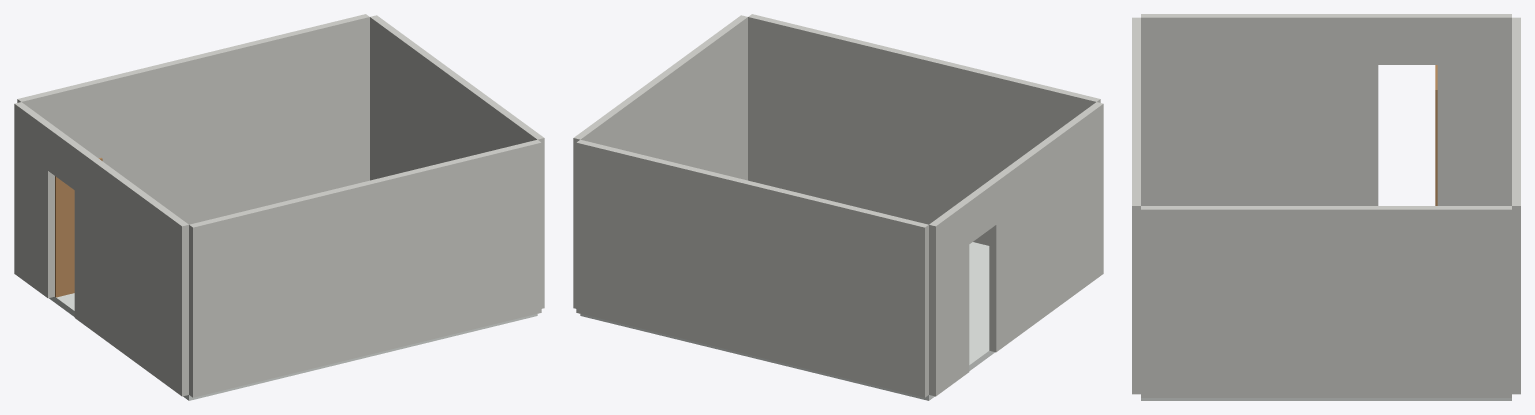
3 renders of one model, left to right at view 1: azimuth 30°, elevation 25°; view 2: azimuth 150°, elevation 25°; view 3: azimuth 270°, elevation 25°, orthographic. The views are drawn at different scales.
Parts seen in each view (by area): view 1: room:north:full, room:south:full, room:west:high, room:east:full, room:west:low, door:leaf, room:west:lintel, room:floor; view 2: room:south:full, room:north:full, room:west:high, room:east:full, room:west:low, room:floor, room:west:lintel; view 3: room:east:full, room:west:high, room:west:low, room:south:full, room:north:full, room:west:lintel, room:floor, door:leaf.
Boxes of the visible parts, box(x1,y1,x2,y2) form: room:north:full: box(189, 139, 541, 397); room:south:full: box(17, 14, 369, 224); room:west:high: box(74, 146, 188, 396); room:east:full: box(370, 15, 544, 308); room:west:low: box(14, 102, 54, 298); door:leaf: box(55, 157, 102, 297); room:west:lintel: box(48, 126, 81, 189); room:floor: box(49, 293, 537, 400); room:south:full: box(576, 139, 928, 397); room:north:full: box(748, 14, 1100, 245); room:west:high: box(989, 102, 1103, 352); room:east:full: box(573, 15, 747, 308); room:west:low: box(929, 200, 969, 396); room:floor: box(580, 242, 994, 400); room:west:lintel: box(962, 180, 996, 243); room:east:full: box(1141, 206, 1511, 397); room:west:high: box(1141, 14, 1378, 205); room:west:low: box(1437, 14, 1511, 205); room:south:full: box(1512, 17, 1520, 394); room:north:full: box(1132, 17, 1140, 394); room:west:lintel: box(1378, 14, 1437, 64); room:floor: box(1141, 398, 1511, 400); door:leaf: box(1435, 65, 1437, 205).
Bounding box in the file's own units: 6.24 × 2.9 × 5.24.
